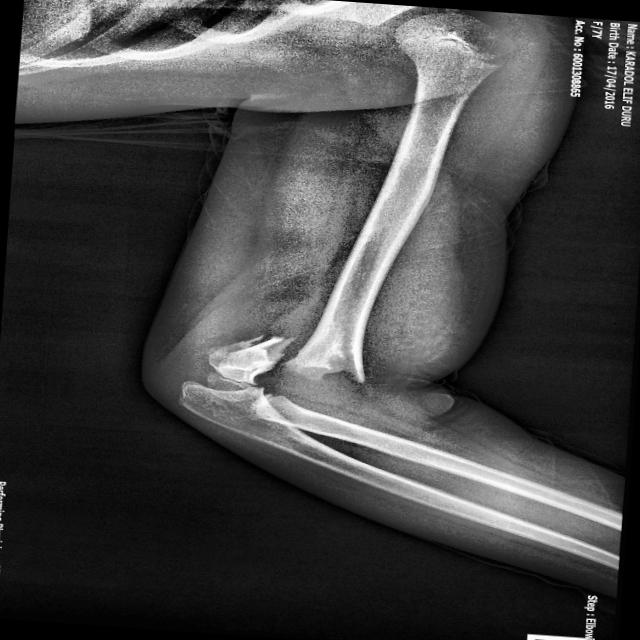Fracture: (162, 313, 392, 422)
